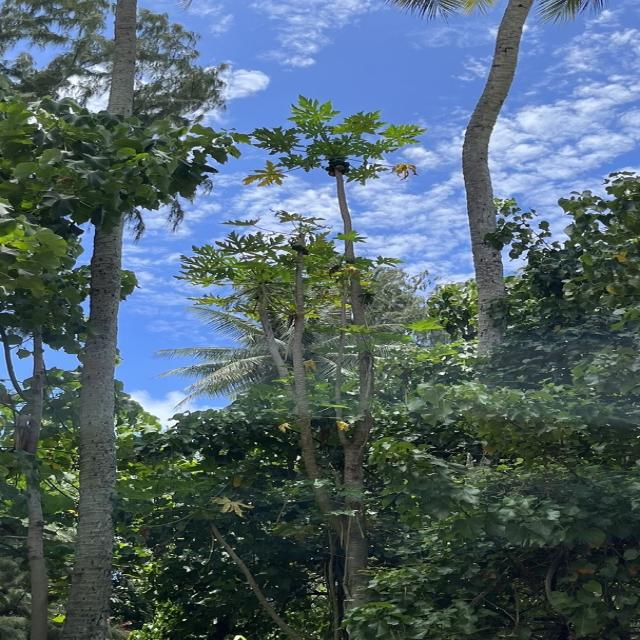Papaya-Tree: (227, 101, 431, 466)
